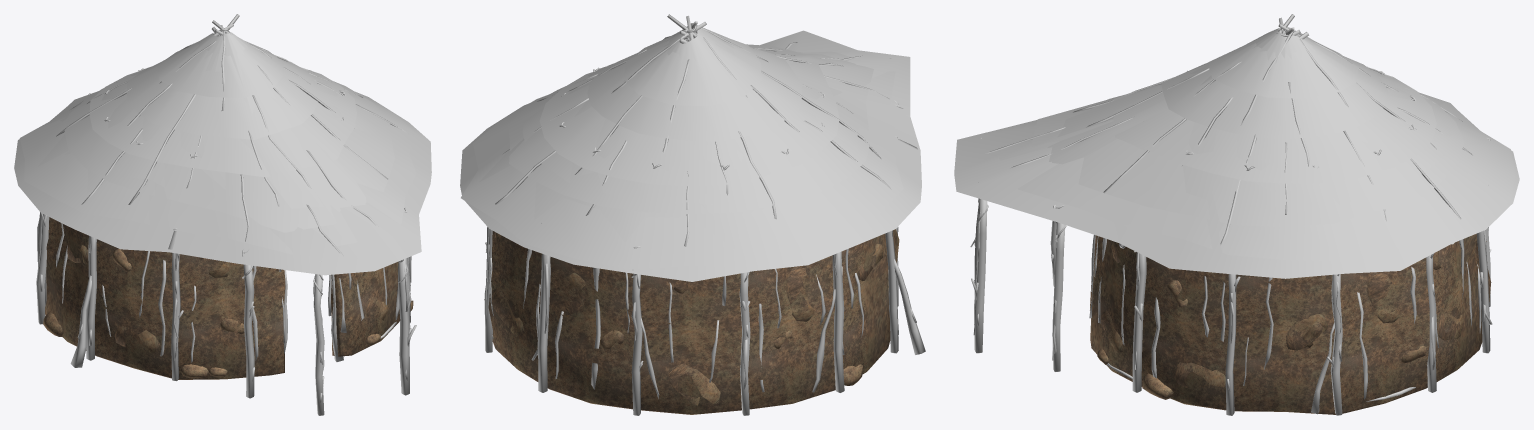
The model's file is lowpoly_african_hut_003.obj.
3 views of the same model, side by side, from view 1: azimuth 30°, elevation 25°; view 2: azimuth 150°, elevation 25°; view 3: azimuth 270°, elevation 25° (orthographic). The views are drawn at different scales.
Parts seen in each view (by area): view 1: lowpoly_african_hut_002; view 2: lowpoly_african_hut_002; view 3: lowpoly_african_hut_002.
Boxes of the visible parts, x1,y1,x2,y2 form: lowpoly_african_hut_002: [14, 14, 431, 415]; lowpoly_african_hut_002: [460, 14, 925, 415]; lowpoly_african_hut_002: [954, 14, 1519, 415].
Size of the model in its own units: 4.49 by 3.33 by 5.42.
